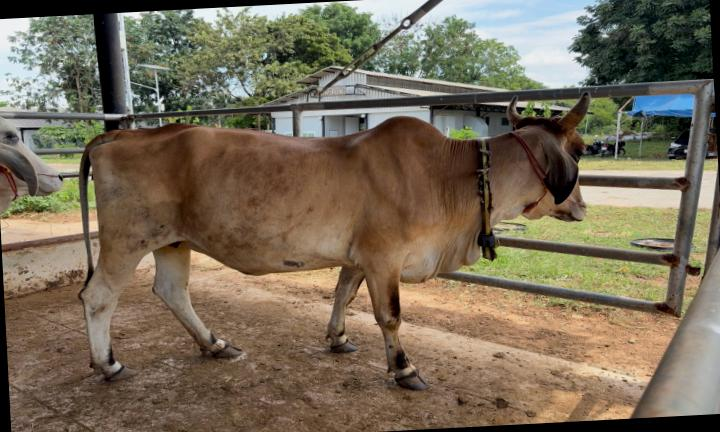Brahman: (80, 92, 589, 389)
